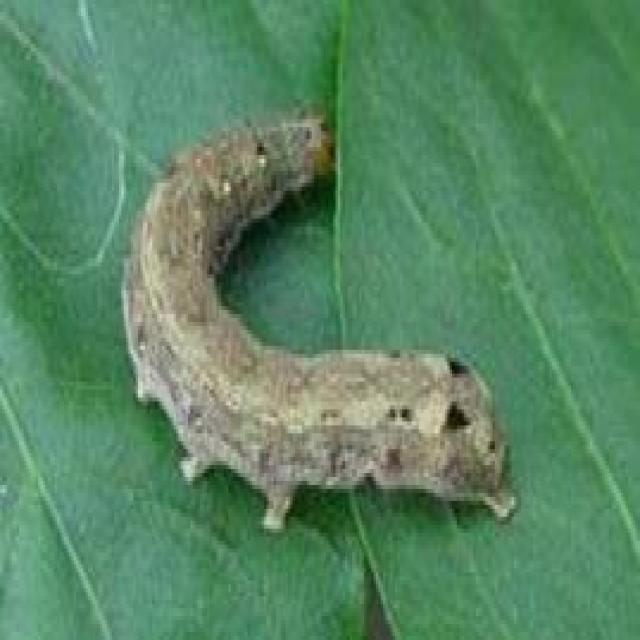BeetArmyWorm-Larva-: (116, 114, 518, 532)
